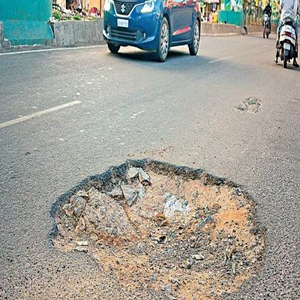pothole: (41, 158, 274, 300)
